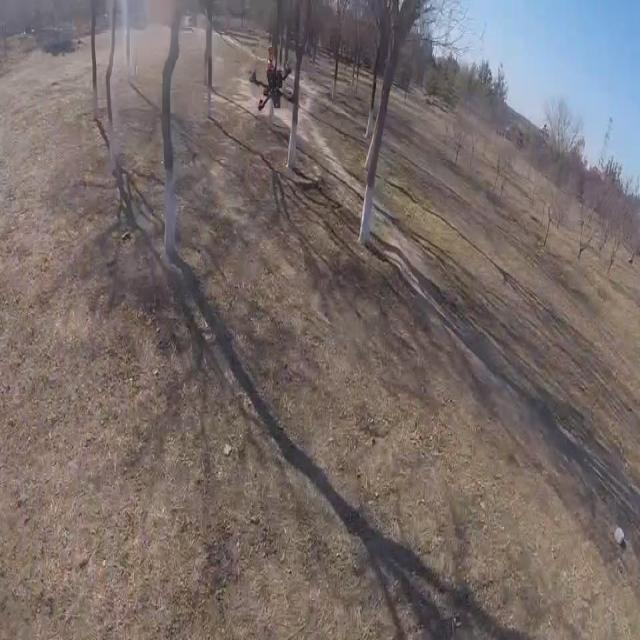drone: (247, 46, 297, 121)
